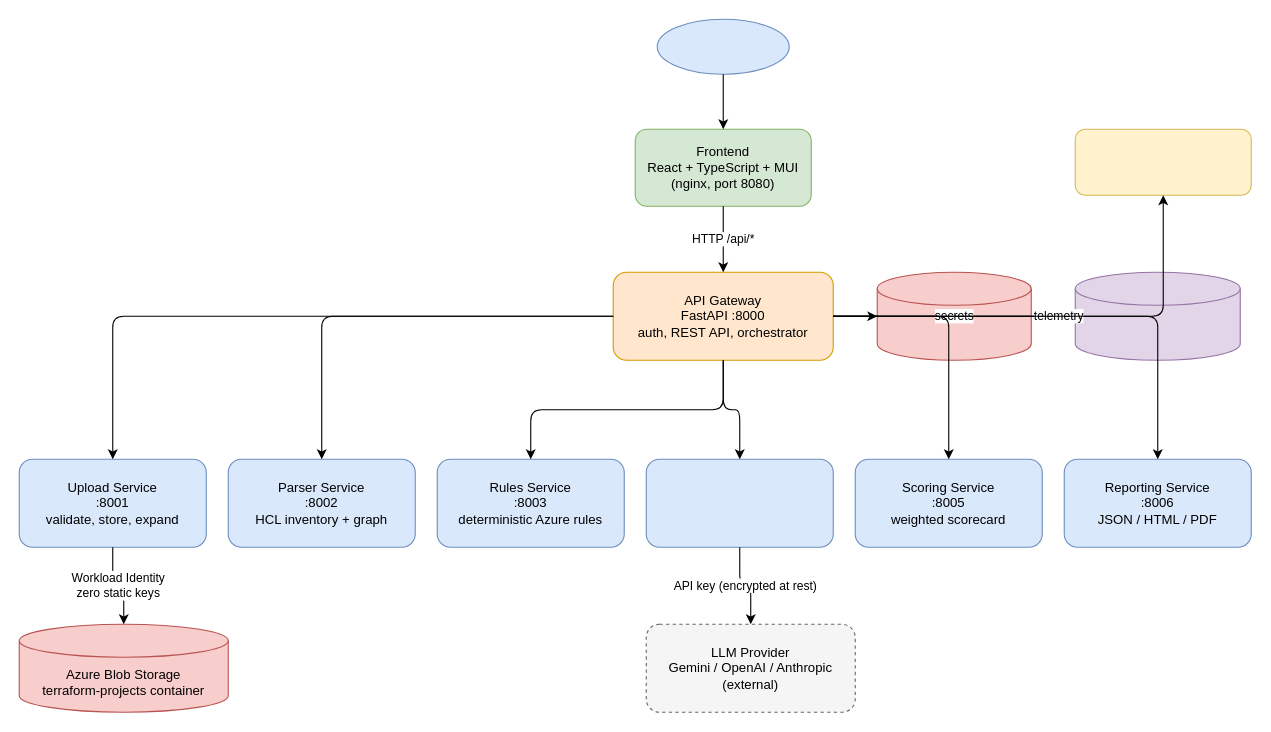
Some shapes in this 1271 by 732 pixel diagram are drawn without their labels. The shapes that lost their labels are listed below. From the top down, each one's centre as x and y in pixels, then its label:
the point at 722,46: User
the point at 1162,161: Application Insights telemetry
the point at 953,315: SQLite users, projects, reviews, findings, audit logs
the point at 1157,315: Azure Key Vault secrets (production)
the point at 739,502: AI Review Service :8004 specialist LLM reviewers
